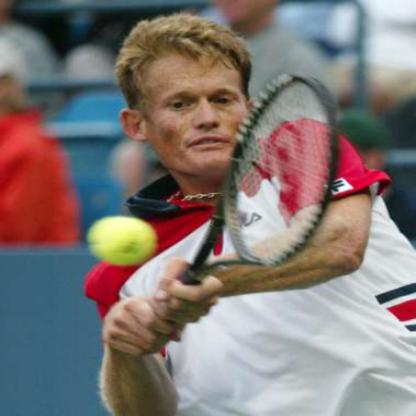face: (140, 26, 252, 180)
